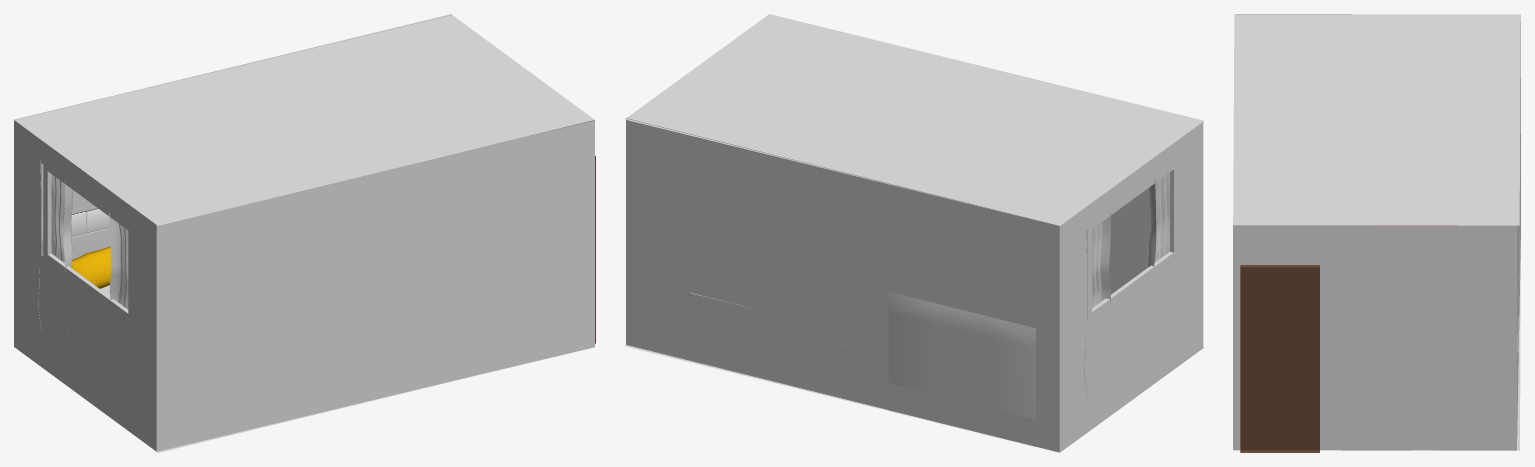
File: Chambre.fbx
3 views of the same model, side by side, from view 1: azimuth 30°, elevation 25°; view 2: azimuth 150°, elevation 25°; view 3: azimuth 270°, elevation 25° (orthographic).
Parts seen in each view (by area): view 1: MurGauche, Plafond, MurFond, pPlane6, pasted__Fenetre, Lit, pPlane5, Oreiller, MurDroit, Sol; view 2: MurDroit, Plafond, MurFond, Lit, Chevet, pasted__Fenetre, pPlane5, MurGauche, pPlane6, Tele, Sol; view 3: Plafond, MurEntree, PortePrincipale, MurDroit, Sol.
Part boxes in pixels (left/top/right/bottom): MurGauche: left=156, top=120, right=594, bottom=451; Plafond: left=14, top=14, right=594, bottom=225; MurFond: left=14, top=120, right=156, bottom=451; pPlane6: left=38, top=160, right=72, bottom=350; pasted__Fenetre: left=43, top=164, right=128, bottom=318; Lit: left=71, top=208, right=110, bottom=295; pPlane5: left=109, top=213, right=128, bottom=309; Oreiller: left=72, top=247, right=111, bottom=288; MurDroit: left=14, top=14, right=451, bottom=213; Sol: left=157, top=355, right=560, bottom=452; MurDroit: left=626, top=118, right=1059, bottom=452; Plafond: left=625, top=14, right=1204, bottom=225; MurFond: left=1059, top=122, right=1203, bottom=452; Lit: left=888, top=292, right=1035, bottom=446; Chevet: left=818, top=339, right=874, bottom=403; pasted__Fenetre: left=1087, top=165, right=1174, bottom=320; pPlane5: left=1147, top=172, right=1169, bottom=267; MurGauche: left=1109, top=234, right=1203, bottom=348; pPlane6: left=1084, top=212, right=1111, bottom=390; Tele: left=1111, top=188, right=1150, bottom=243; Sol: left=625, top=345, right=1203, bottom=452; Plafond: left=1233, top=14, right=1520, bottom=225; MurEntree: left=1233, top=225, right=1516, bottom=450; PortePrincipale: left=1240, top=265, right=1319, bottom=452; MurDroit: left=1517, top=22, right=1520, bottom=437; Sol: left=1411, top=241, right=1520, bottom=450.
Size of the model in its own units: 5.05 by 2.5 by 2.88.
